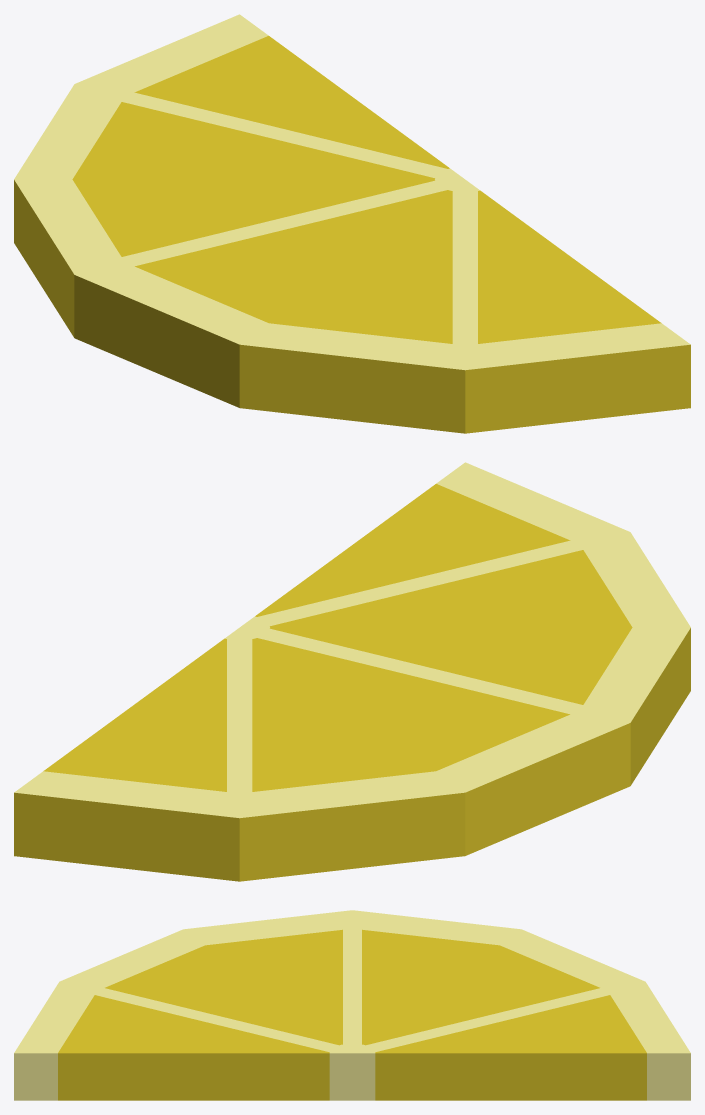
The model's file is Lemon_02.fbx.
3 renders of one model, top to bottom at view 1: azimuth 30°, elevation 25°; view 2: azimuth 150°, elevation 25°; view 3: azimuth 270°, elevation 25°, orthographic. The views are drawn at different scales.
Parts seen in each view (by area): view 1: Lemon_02; view 2: Lemon_02; view 3: Lemon_02.
Part boxes in pixels (left/top/right/bottom): Lemon_02: left=14, top=14, right=690, bottom=433; Lemon_02: left=14, top=462, right=690, bottom=881; Lemon_02: left=14, top=910, right=690, bottom=1100.
Bounding box in the file's own units: 0.0403 × 0.00626 × 0.0806.
